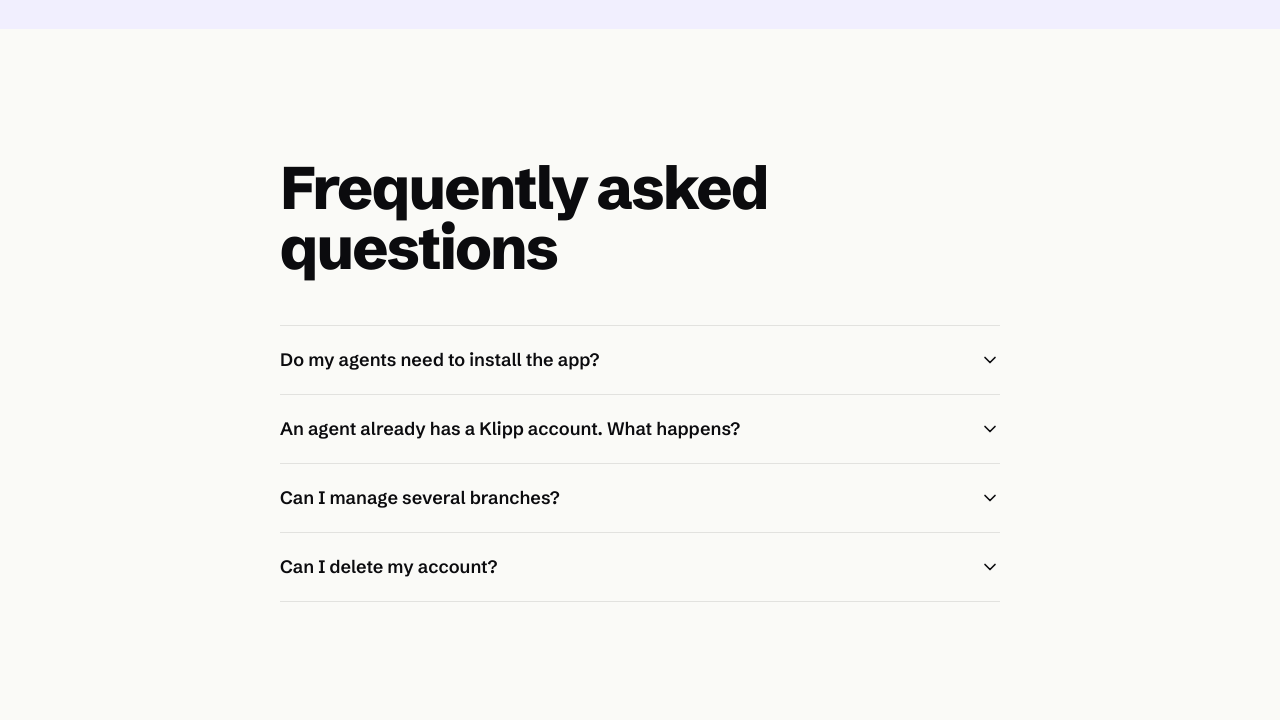
AgenciesPage › answers frequently asked questions in expandable items
(page scrolled)
Click the heading "Do my agents need to install the app?". click: click(440, 360)
box: [280,346,1000,374]
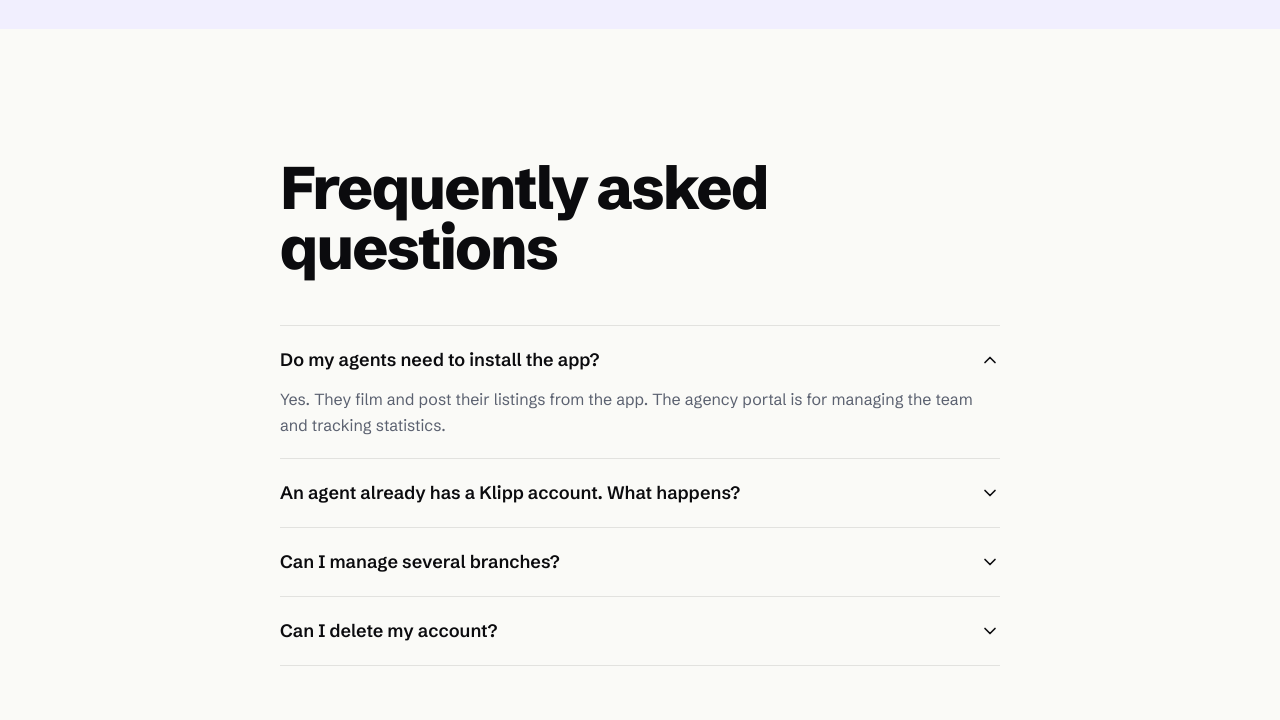
Result: the text "They film and post their listings from the app" is shown at [280,389,973,435]
